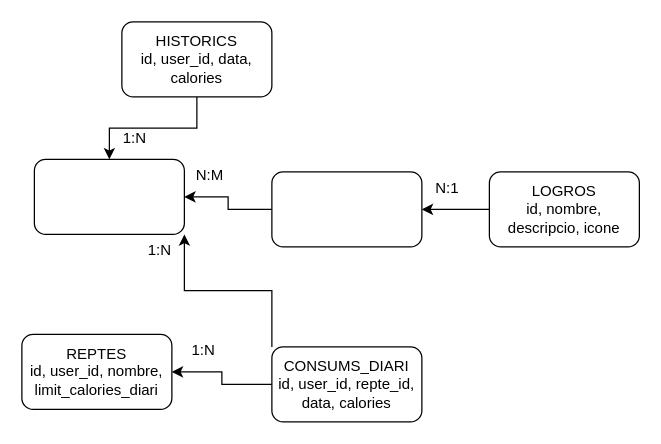
This 661x444 diagram has some shape labels left out. The shapes that lost their labels are listed below. From the top down, each one's box as (x1, y1, x2, y2) in pixels, then its label:
(33, 158, 184, 234): USERS id, name, email, password
(271, 171, 422, 247): LOGROS_USER id, user_id, logro_id
